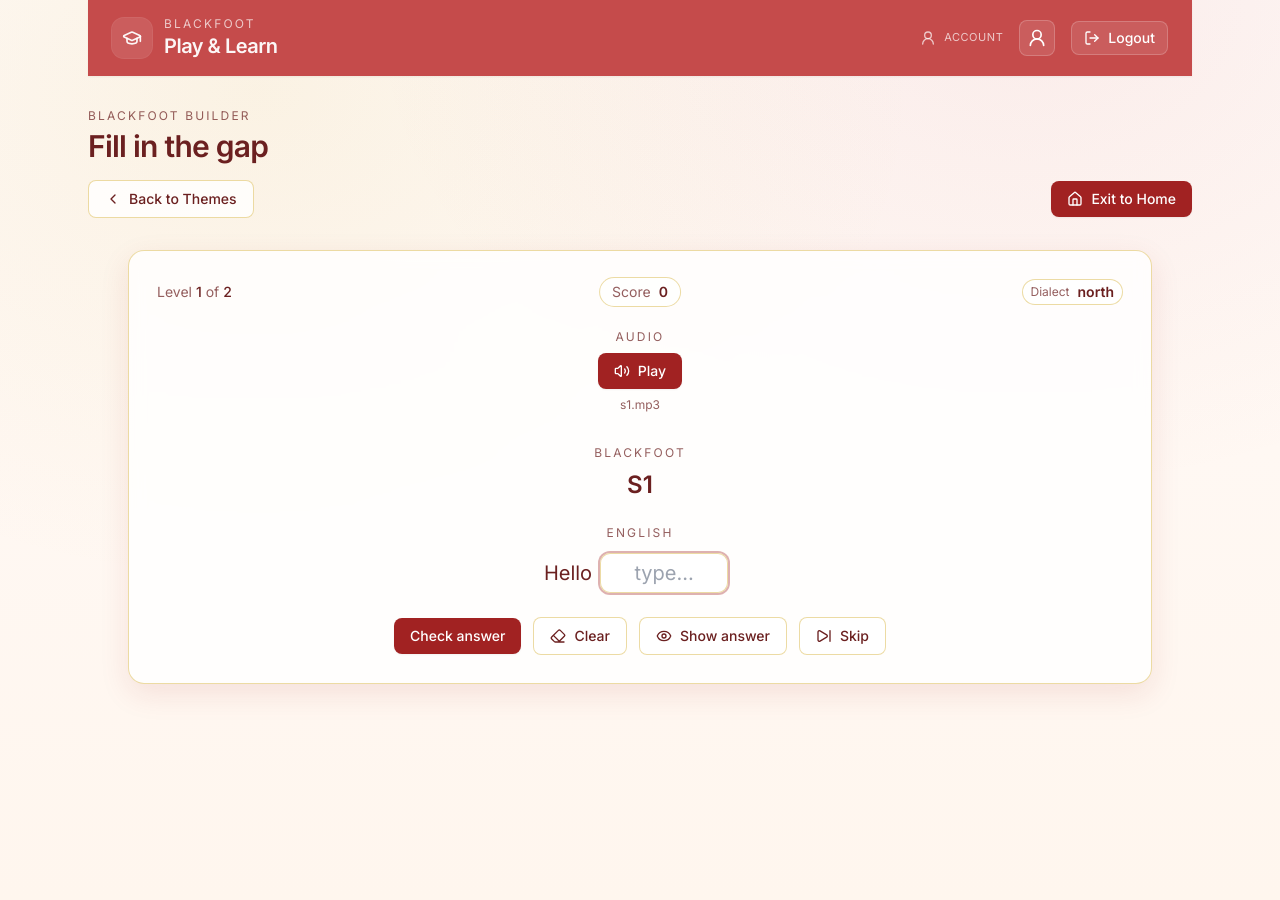
Test: FillInTheGap component › full game flow
Expected: the text "S1" is shown, [627, 470, 653, 499]
Type "world" into the field with placeholder "type…".
click(664, 573); type("world")  # box [600, 553, 728, 593]
Click the button "Check answer".
click(458, 636)  # box [394, 618, 522, 654]
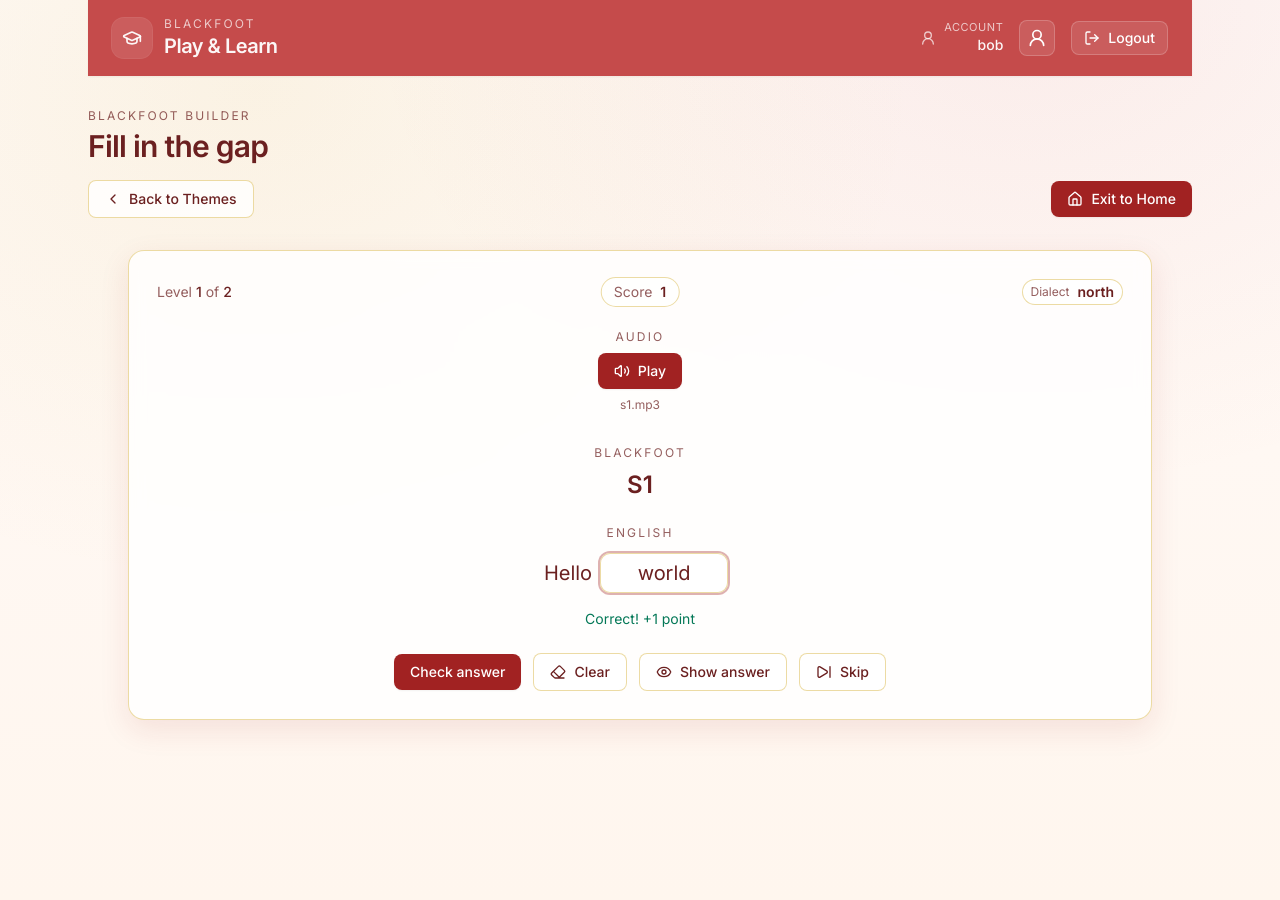
Now the text "Correct! +1 point" is shown, box [585, 610, 695, 627]
Click the button "Skip".
click(843, 672)  # box [799, 653, 886, 691]
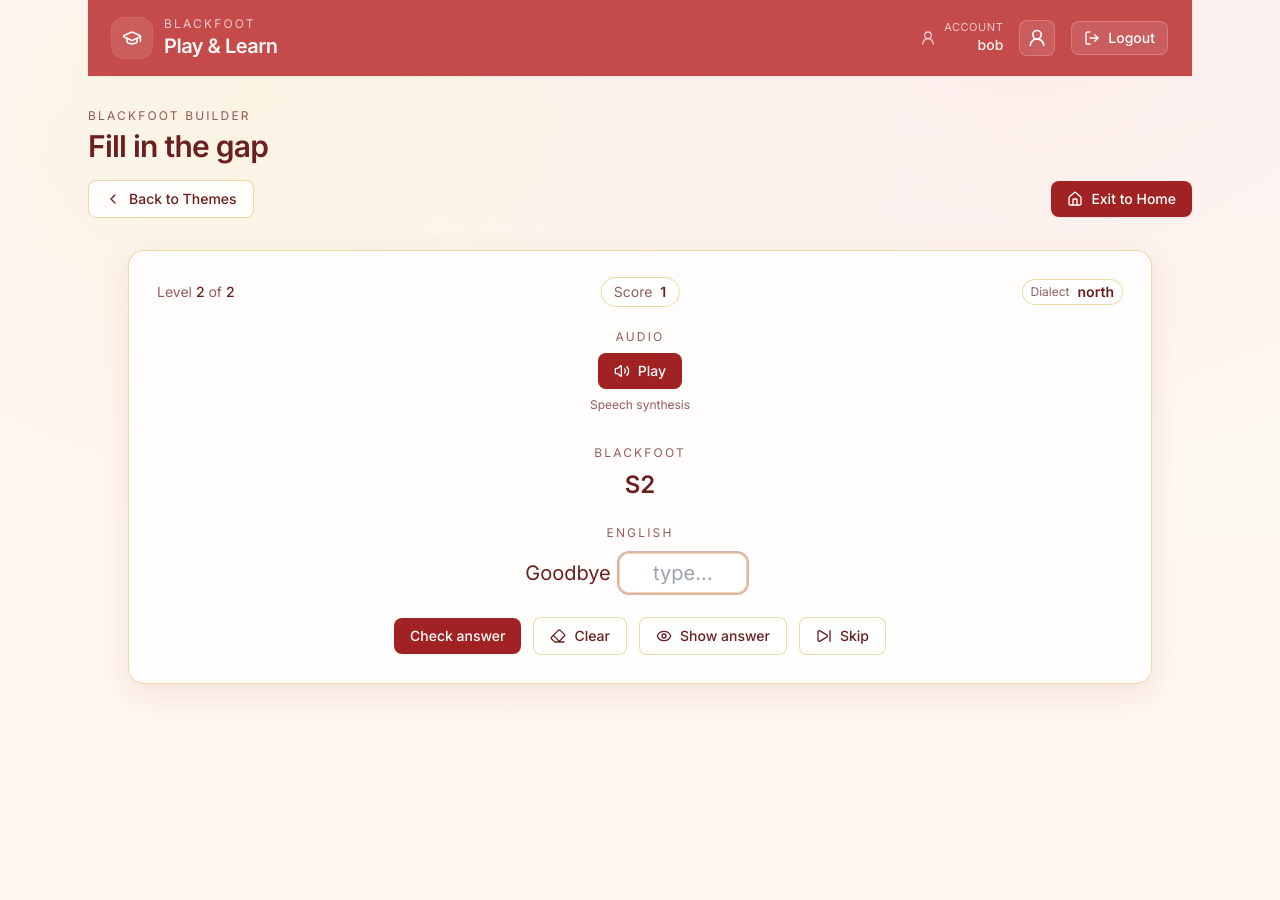
Now the text "S2" is shown, box [625, 470, 655, 499]
Type "wrong" into the field with placeholder "type…".
click(683, 573); type("wrong")  # box [619, 553, 747, 593]
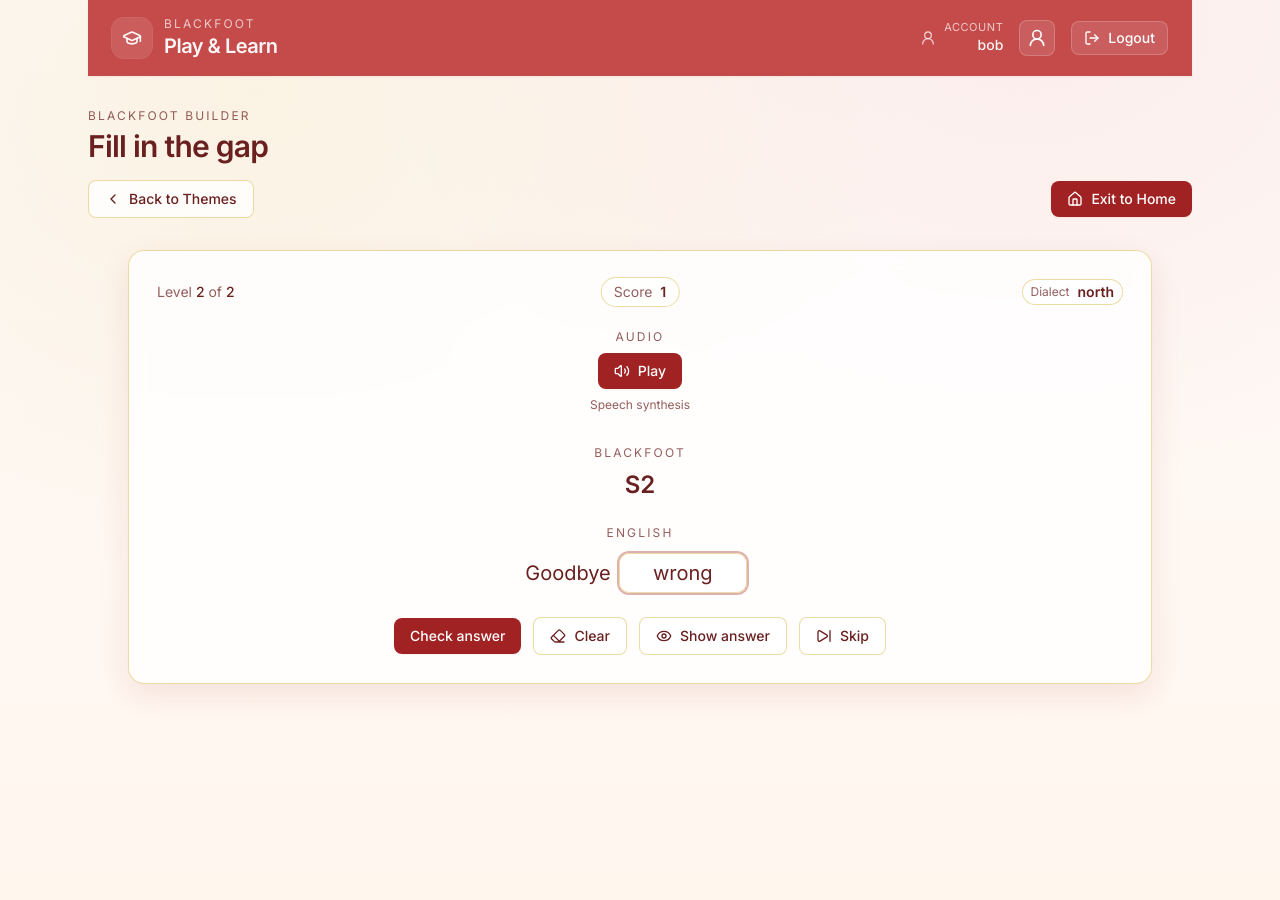
Click the button "Check answer".
click(458, 636)  # box [394, 618, 522, 654]
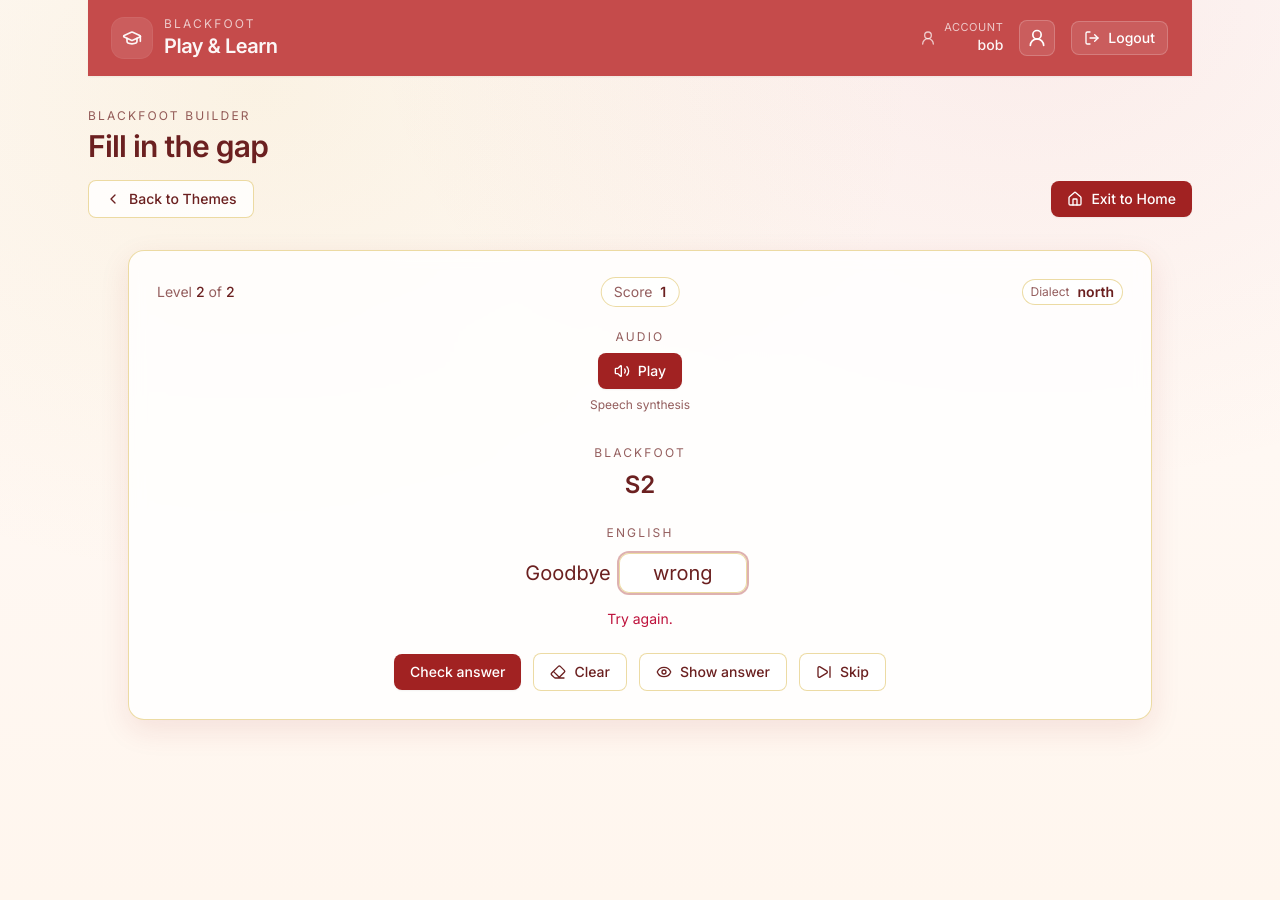
Now the text "Try again." is shown, box [607, 610, 673, 627]
Click the button "Show answer".
click(713, 672)  # box [639, 653, 787, 691]
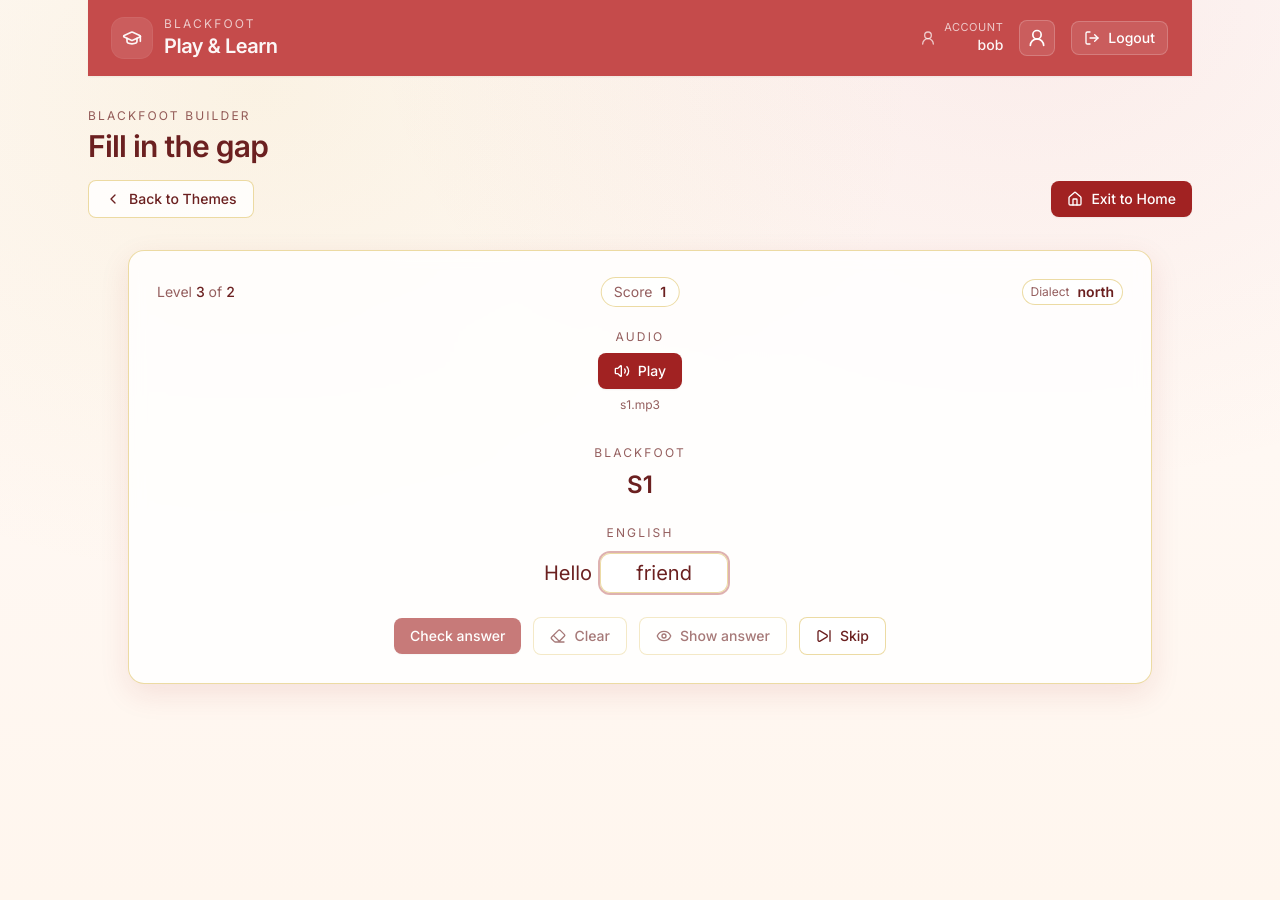
Now the field with placeholder "type…" holds "friend", box [600, 553, 728, 593]
# Since "Show answer" was used, check answer is disabled. We must skip.
Click the button "Skip".
click(843, 636)  # box [799, 617, 886, 655]
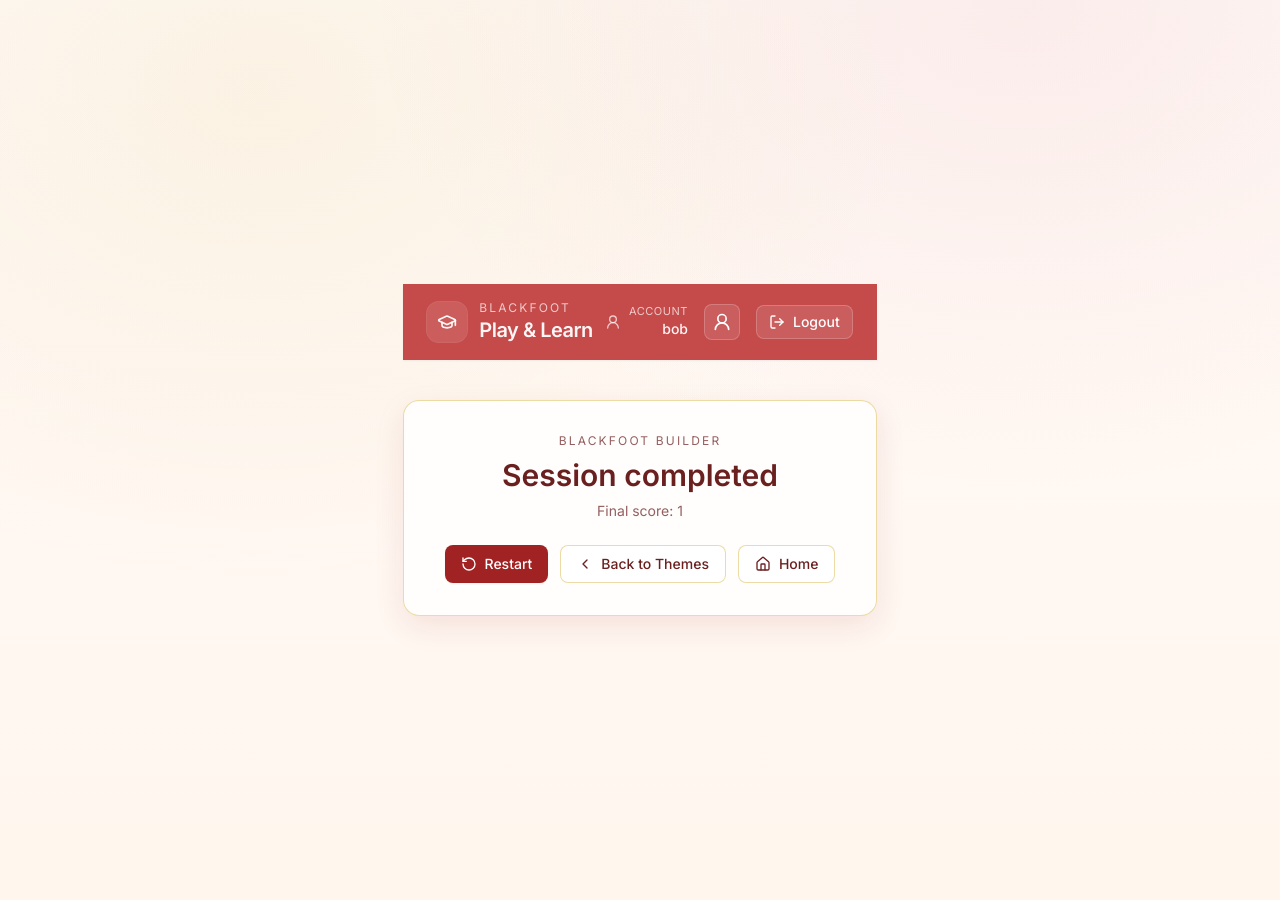
Now the heading "Session completed" is shown, box [502, 457, 778, 493]
